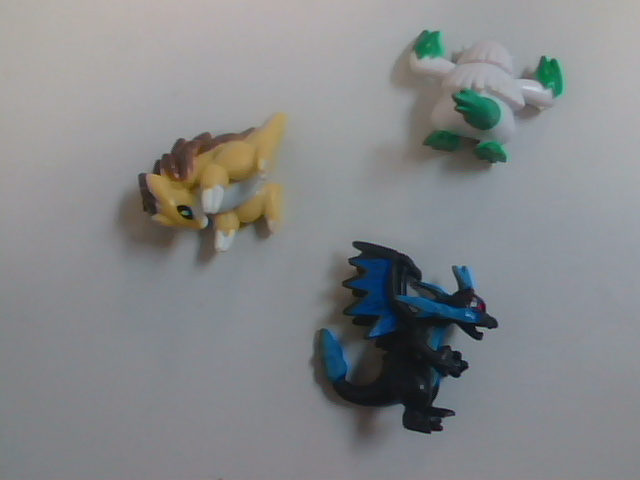abomasnow: (372, 10, 584, 209)
charizard: (319, 233, 539, 442)
sandslash: (125, 99, 307, 294)
